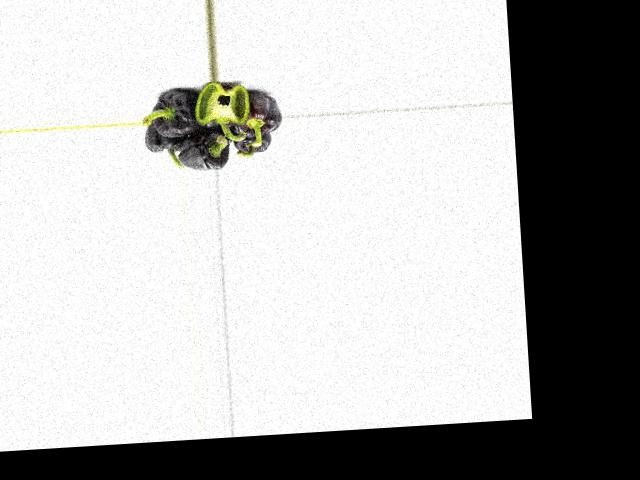bell_pepper: (222, 92, 281, 138)
